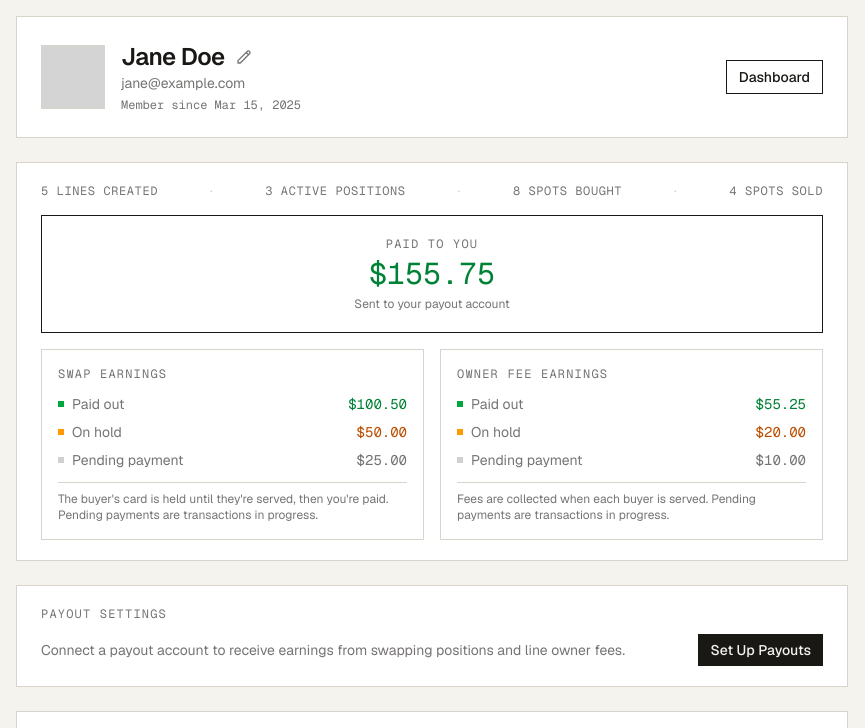
Test: ProfileClient › Profile name editing › shows edit input when pencil icon is clicked
Click the button titled "Edit name": coordinates (244, 57) [232, 45, 256, 69]
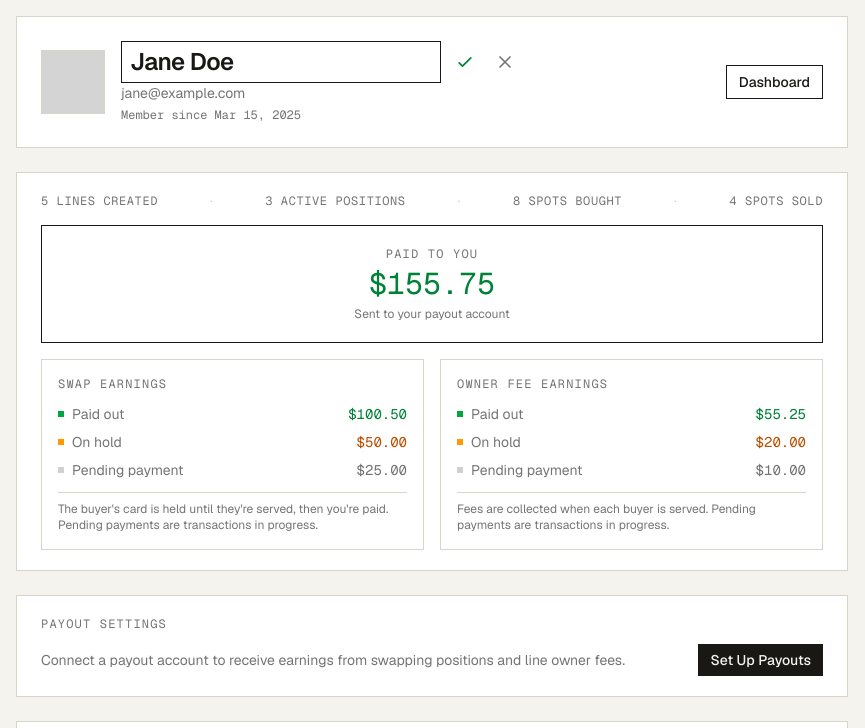
Expected: the field showing "Jane Doe" is shown, [121, 41, 441, 83]
Expected: the button titled "Save" is shown, [449, 46, 481, 78]
Expected: the button titled "Cancel" is shown, [489, 46, 521, 78]
